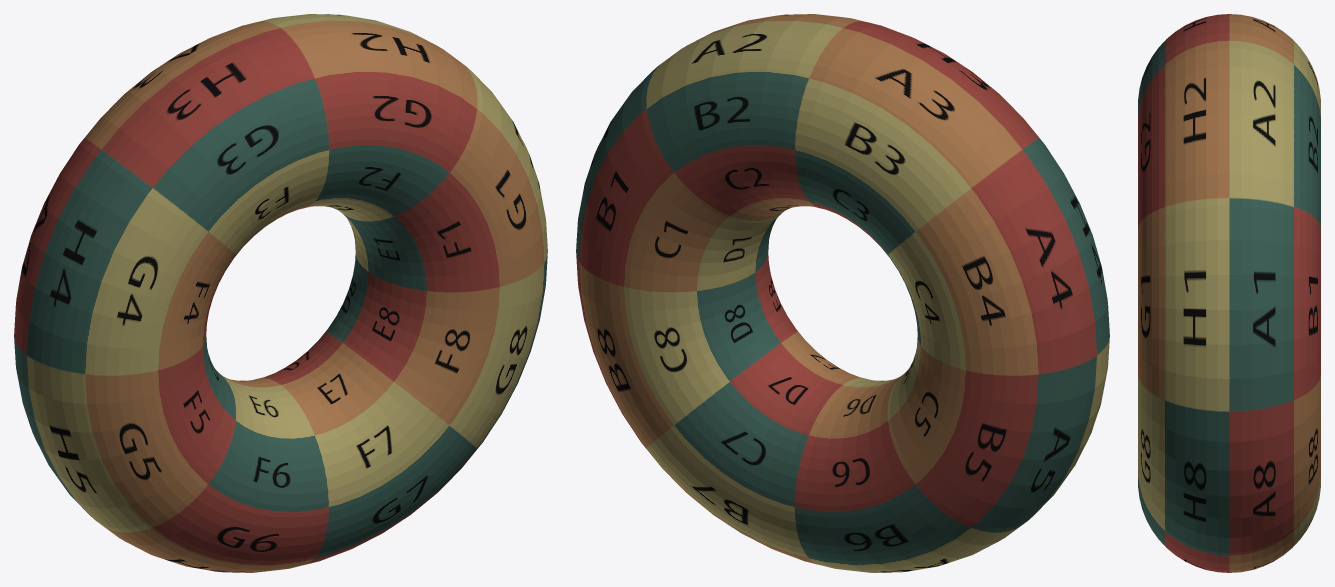
Rendered from texture_torus_R1_r12.glb.
3 renders of one model, left to right at view 1: azimuth 30°, elevation 25°; view 2: azimuth 150°, elevation 25°; view 3: azimuth 270°, elevation 25°, orthographic. The views are drawn at different scales.
Parts seen in each view (by area): view 1: world; view 2: world; view 3: world.
Part boxes in pixels (bbox=[...]): world: bbox=[14, 14, 547, 572]; world: bbox=[576, 14, 1109, 572]; world: bbox=[1138, 14, 1320, 572].
Size of the model in its own units: 15.87 by 15.84 by 5.19.
Materials: 1 (1 with a texture image).
